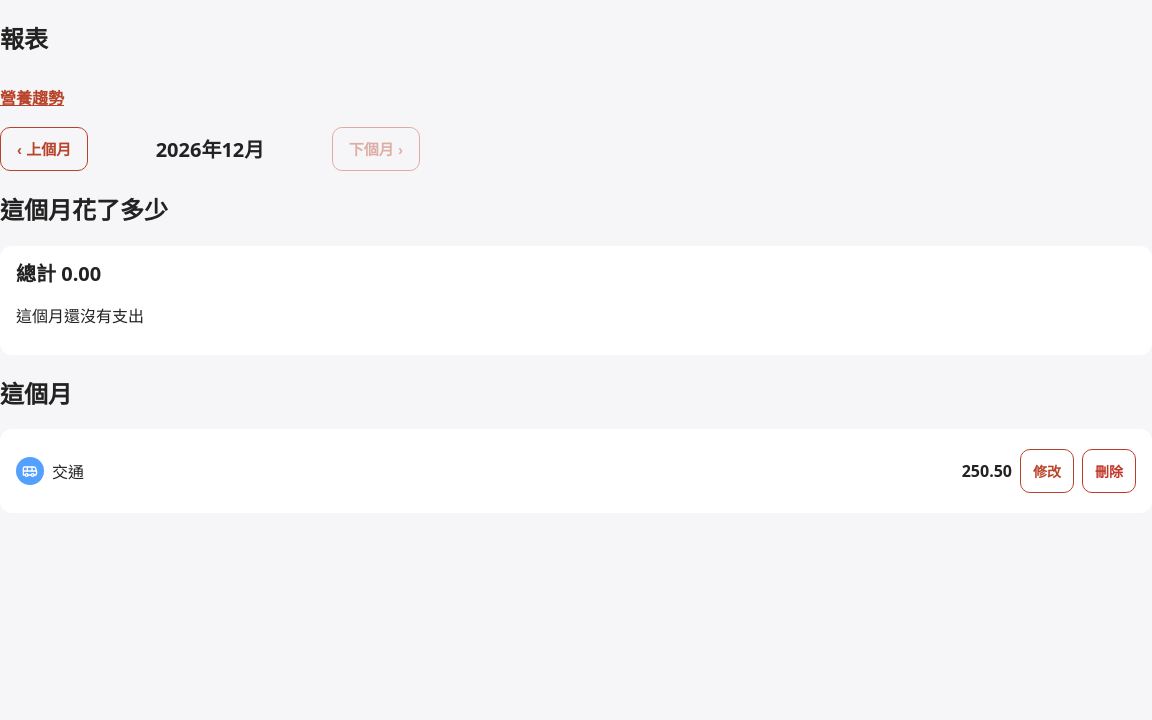
記帳 /expenses › 刪除失敗時講清楚
Check: the text "250.50" is shown, box [962,460,1012,482]
Click the button "刪除".
click(1109, 471)  # box [1082,449,1136,493]
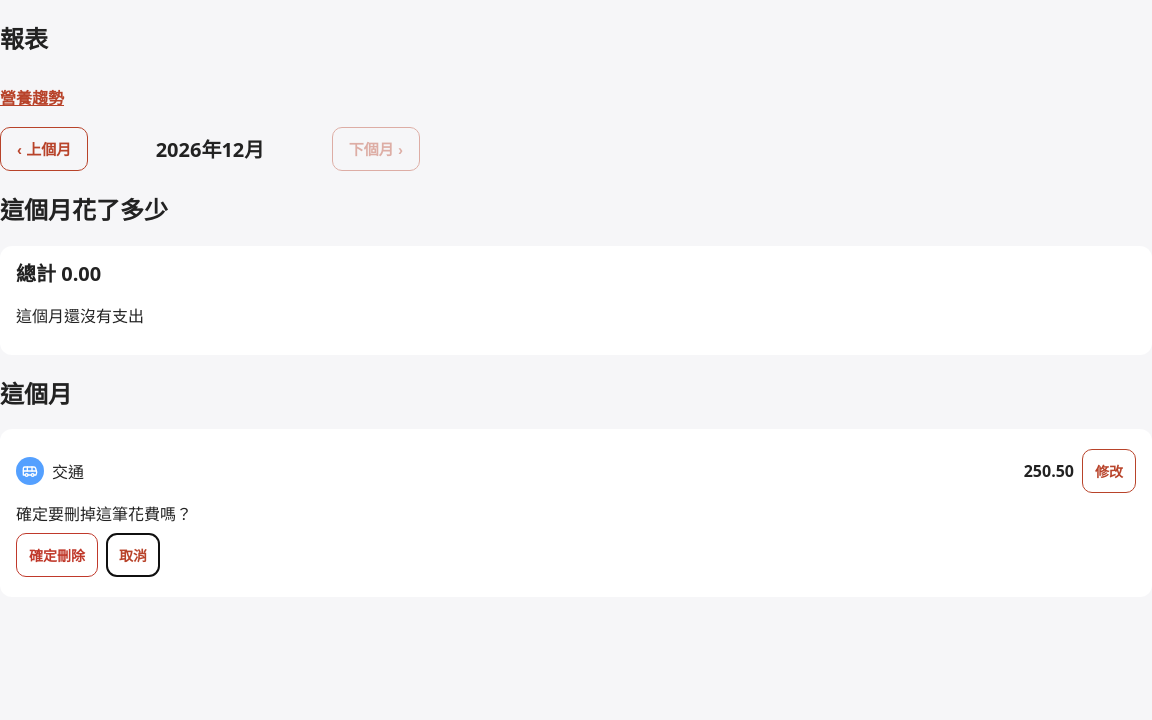
Click the button "確定刪除".
click(57, 555)  # box [16,533,98,577]
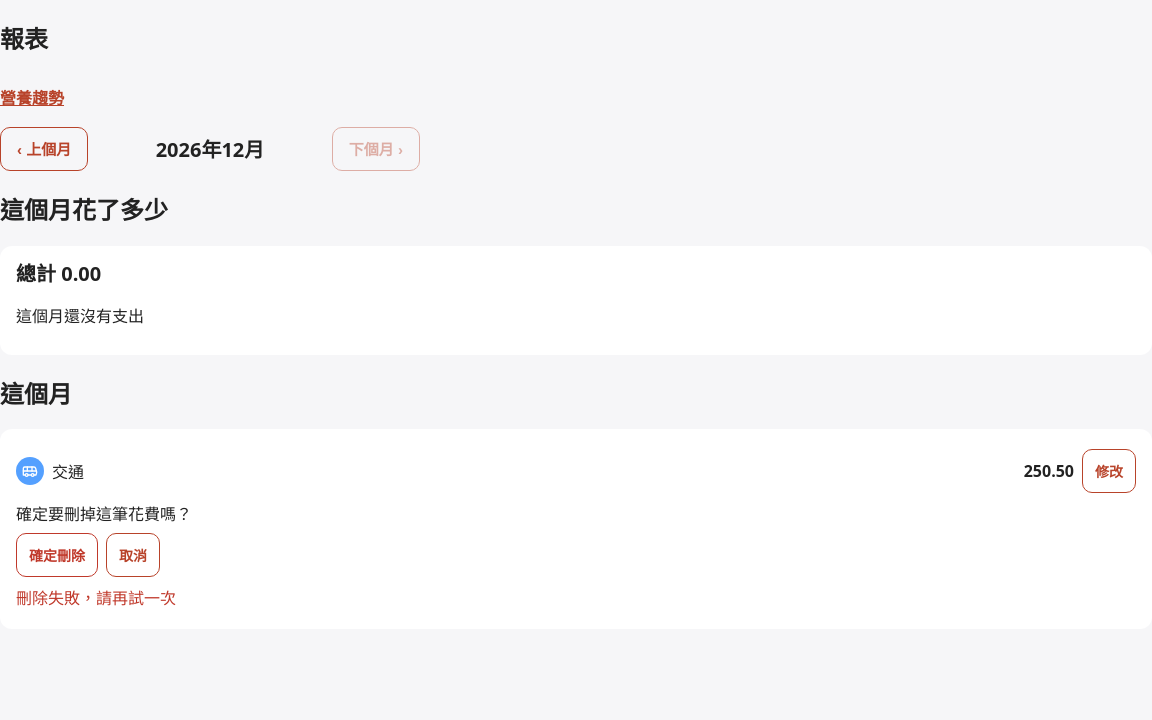
Check: the message "刪除失敗，請再試一次" is shown, box [16,587,176,609]
